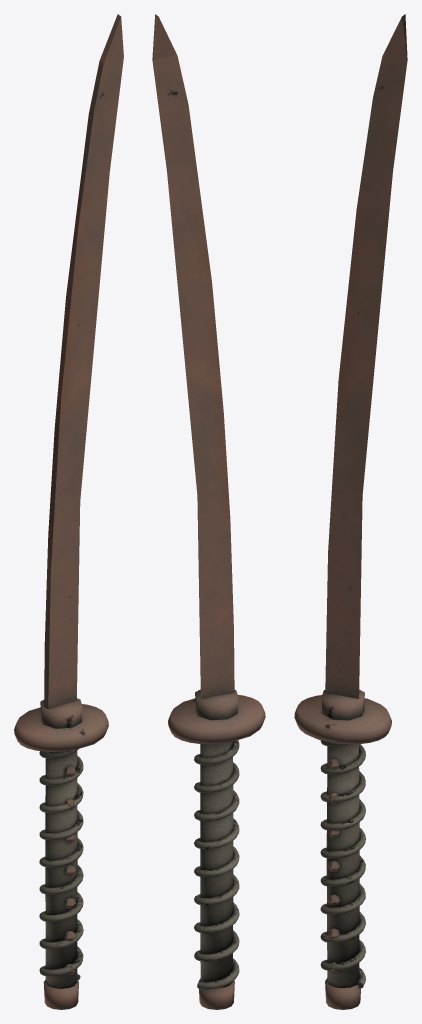
The model's file is arma_katana_enferrujada.glb.
3 views of the same model, side by side, from view 1: azimuth 30°, elevation 25°; view 2: azimuth 210°, elevation 25°; view 3: azimuth 330°, elevation 25° (orthographic). The views are drawn at different scales.
Visible parts, largest first — view 1: arma_katana_enferrujada; view 2: arma_katana_enferrujada; view 3: arma_katana_enferrujada.
Part boxes in pixels (box(x1,y1,x2,y2)): arma_katana_enferrujada: box(14, 14, 123, 1009); arma_katana_enferrujada: box(152, 14, 265, 1009); arma_katana_enferrujada: box(294, 14, 407, 1009).
Size of the model in its own units: 0.1174 by 1.04 by 0.0768.
1 material, 1 textured.
